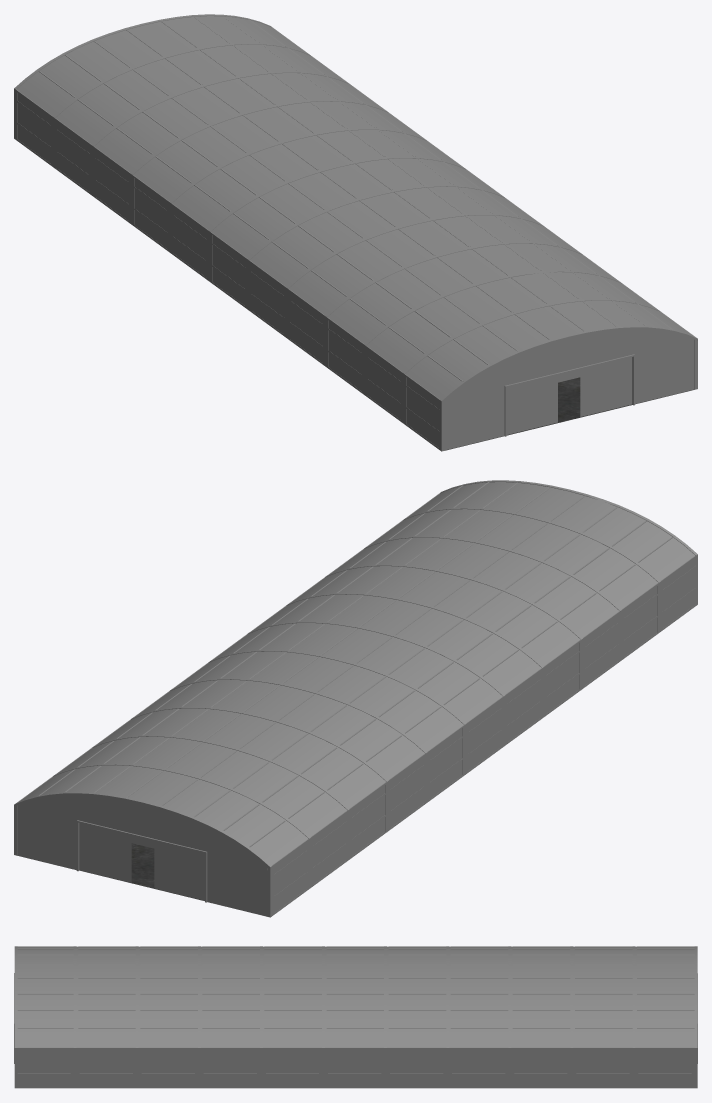
Rendered from warehouse.zfix-v14.lod0.glb.
The picture shows the model from 3 angles, top to bottom: view 1: azimuth 30°, elevation 25°; view 2: azimuth 150°, elevation 25°; view 3: azimuth 270°, elevation 25°; orthographic projection. The views are drawn at different scales.
Parts seen in each view (by area): view 1: NurbsPath.005_Metal_0, NurbsPath.005_WetConcrete_0; view 2: NurbsPath.005_Metal_0, NurbsPath.005_WetConcrete_0; view 3: NurbsPath.005_Metal_0.
Part boxes in pixels (x1,y1,x2,y2): NurbsPath.005_Metal_0: [14, 14, 697, 451]; NurbsPath.005_WetConcrete_0: [445, 377, 694, 450]; NurbsPath.005_Metal_0: [14, 480, 697, 917]; NurbsPath.005_WetConcrete_0: [79, 843, 204, 900]; NurbsPath.005_Metal_0: [14, 946, 697, 1088].
Size of the model in its own units: 16 by 5.02 by 46.27.
Materials: 3 (1 with a texture image).
